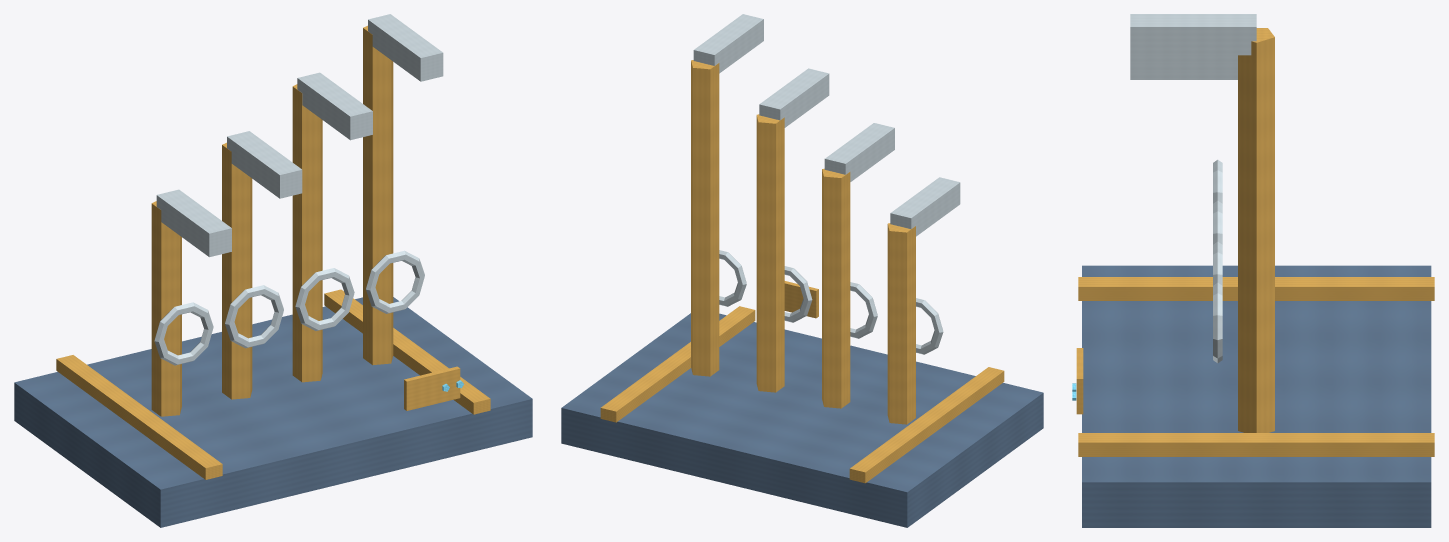
File: atlas100-s054-a02.lod1.glb
3 views of the same model, side by side, from view 1: azimuth 30°, elevation 25°; view 2: azimuth 150°, elevation 25°; view 3: azimuth 270°, elevation 25° (orthographic). The views are drawn at different scales.
Parts seen in each view (by area): view 1: atlas100-s054-a02:part-000, atlas100-s054-a02:part-012, atlas100-s054-a02:part-009, atlas100-s054-a02:part-006, atlas100-s054-a02:part-003, atlas100-s054-a02:part-001, atlas100-s054-a02:part-014, atlas100-s054-a02:part-008, atlas100-s054-a02:part-011, atlas100-s054-a02:part-005, atlas100-s054-a02:part-002, atlas100-s054-a02:part-015 (+4 smaller); view 2: atlas100-s054-a02:part-000, atlas100-s054-a02:part-012, atlas100-s054-a02:part-009, atlas100-s054-a02:part-006, atlas100-s054-a02:part-003, atlas100-s054-a02:part-001, atlas100-s054-a02:part-002, atlas100-s054-a02:part-011, atlas100-s054-a02:part-014, atlas100-s054-a02:part-005, atlas100-s054-a02:part-008, atlas100-s054-a02:part-015 (+4 smaller); view 3: atlas100-s054-a02:part-000, atlas100-s054-a02:part-012, atlas100-s054-a02:part-002, atlas100-s054-a02:part-001, atlas100-s054-a02:part-014, atlas100-s054-a02:part-005, atlas100-s054-a02:part-008, atlas100-s054-a02:part-011, atlas100-s054-a02:part-013, atlas100-s054-a02:part-015.
Boxes of the visible parts, x1,y1,x2,y2 form: atlas100-s054-a02:part-000: [14, 297, 532, 527]; atlas100-s054-a02:part-012: [363, 25, 393, 365]; atlas100-s054-a02:part-009: [292, 84, 322, 382]; atlas100-s054-a02:part-006: [222, 142, 252, 399]; atlas100-s054-a02:part-003: [151, 201, 181, 416]; atlas100-s054-a02:part-001: [56, 355, 222, 479]; atlas100-s054-a02:part-014: [368, 14, 443, 81]; atlas100-s054-a02:part-008: [227, 131, 302, 198]; atlas100-s054-a02:part-011: [297, 72, 372, 140]; atlas100-s054-a02:part-005: [156, 189, 231, 257]; atlas100-s054-a02:part-002: [324, 289, 490, 414]; atlas100-s054-a02:part-015: [404, 366, 460, 410]; atlas100-s054-a02:part-000: [561, 313, 1043, 527]; atlas100-s054-a02:part-012: [691, 60, 719, 376]; atlas100-s054-a02:part-009: [756, 114, 784, 392]; atlas100-s054-a02:part-006: [822, 168, 850, 408]; atlas100-s054-a02:part-003: [887, 223, 915, 424]; atlas100-s054-a02:part-001: [849, 367, 1004, 483]; atlas100-s054-a02:part-002: [600, 306, 755, 422]; atlas100-s054-a02:part-011: [759, 68, 829, 127]; atlas100-s054-a02:part-014: [693, 14, 763, 73]; atlas100-s054-a02:part-005: [890, 177, 960, 236]; atlas100-s054-a02:part-008: [824, 123, 894, 181]; atlas100-s054-a02:part-015: [784, 281, 818, 318]; atlas100-s054-a02:part-000: [1082, 265, 1431, 527]; atlas100-s054-a02:part-012: [1238, 28, 1274, 432]; atlas100-s054-a02:part-002: [1078, 433, 1434, 456]; atlas100-s054-a02:part-001: [1078, 277, 1434, 300]; atlas100-s054-a02:part-014: [1130, 14, 1256, 55]; atlas100-s054-a02:part-005: [1130, 71, 1237, 79]; atlas100-s054-a02:part-008: [1130, 63, 1237, 71]; atlas100-s054-a02:part-011: [1130, 55, 1237, 63]; atlas100-s054-a02:part-013: [1213, 282, 1222, 363]; atlas100-s054-a02:part-015: [1076, 348, 1083, 414].
Bounding box in the file's own units: 2.64 × 2.62 × 1.87.
Materials: 4 (4 with a texture image).
